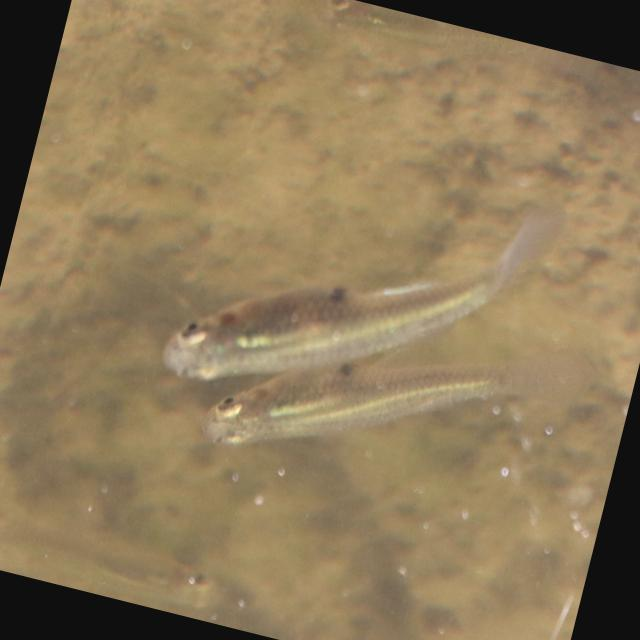Sivrisinek Baligi: (154, 120, 568, 462), (176, 255, 623, 564)
